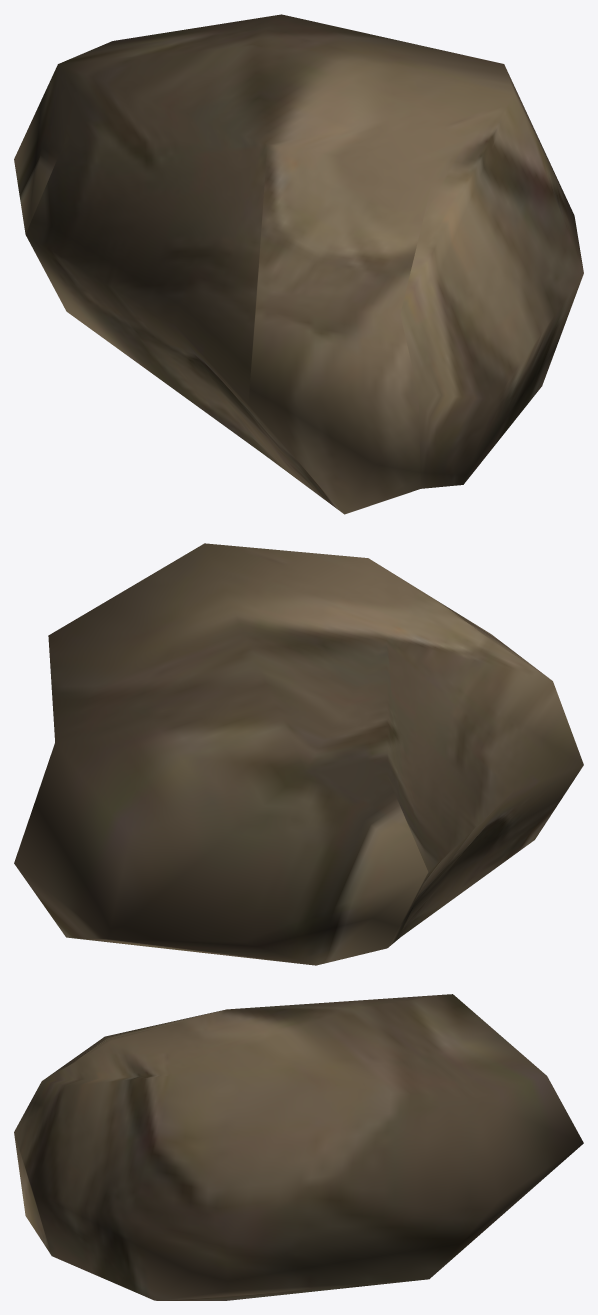
Rendered from Stone01.fbx.
3 renders of one model, top to bottom at view 1: azimuth 30°, elevation 25°; view 2: azimuth 150°, elevation 25°; view 3: azimuth 270°, elevation 25°, orthographic. The views are drawn at different scales.
Parts seen in each view (by area): view 1: pCube8; view 2: pCube8; view 3: pCube8.
Boxes of the visible parts, left/top/right/bottom form: pCube8: left=14, top=14, right=583, bottom=514; pCube8: left=14, top=543, right=583, bottom=965; pCube8: left=14, top=994, right=583, bottom=1300.
Bounding box in the file's own units: 3.49 × 2.6 × 4.94.
